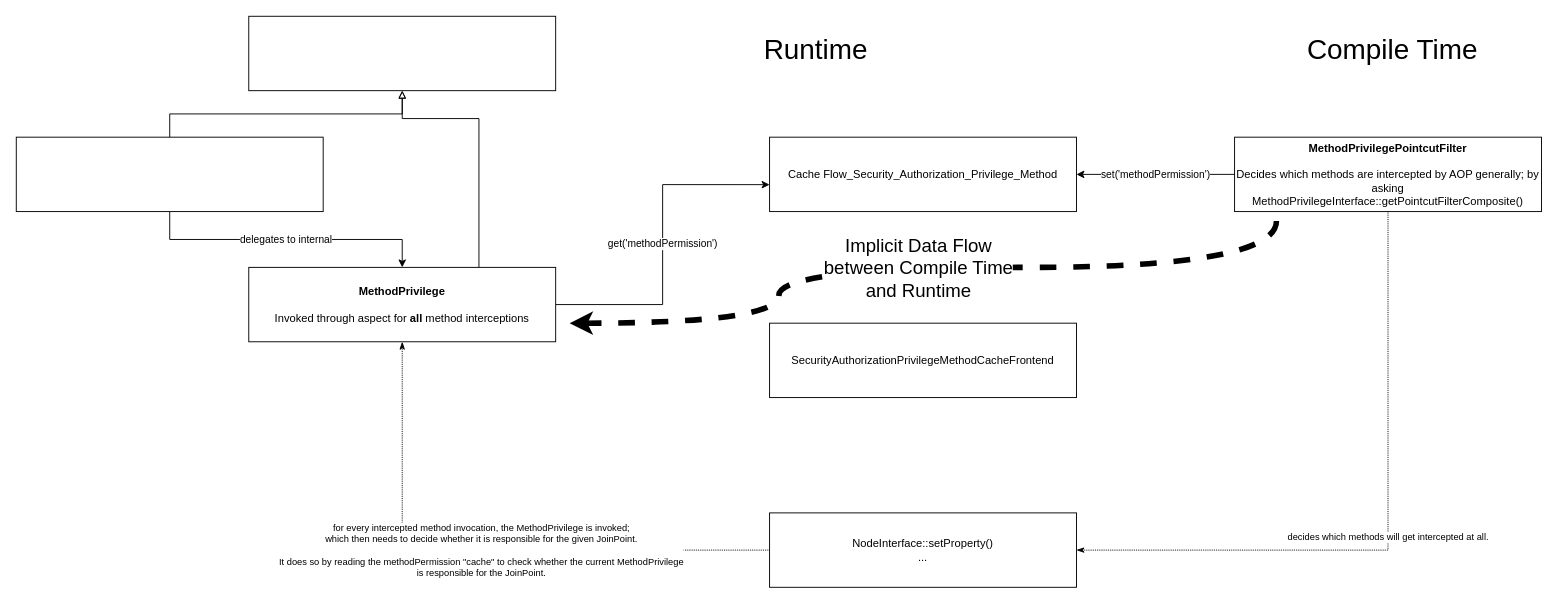
Some shapes in this 1558 by 604 pixel diagram are drawn without their labels. Each missing label, with the box of its shape:
AbstractNodePrivilege: (15, 136, 323, 212)
MethodPrivilegeInterface: (248, 15, 556, 91)
